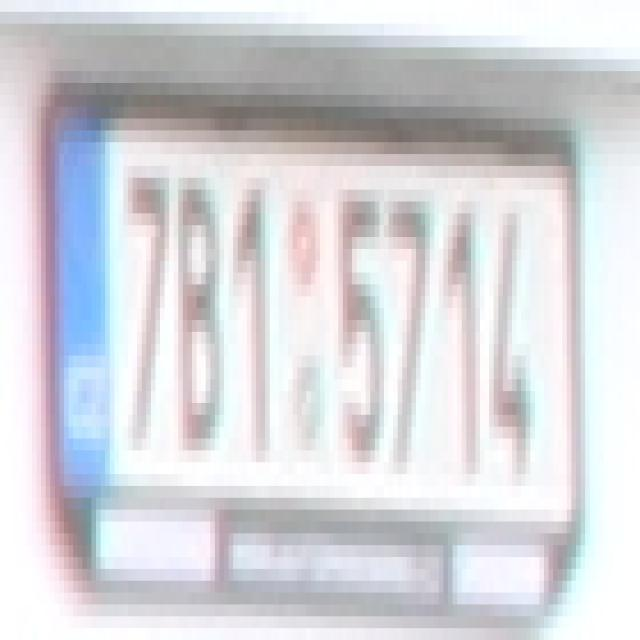1: (228, 166, 279, 462), (439, 202, 484, 474)
4: (484, 190, 535, 486)
5: (334, 178, 388, 450)
7: (380, 190, 425, 486), (119, 154, 164, 439)
B: (169, 154, 220, 439)
